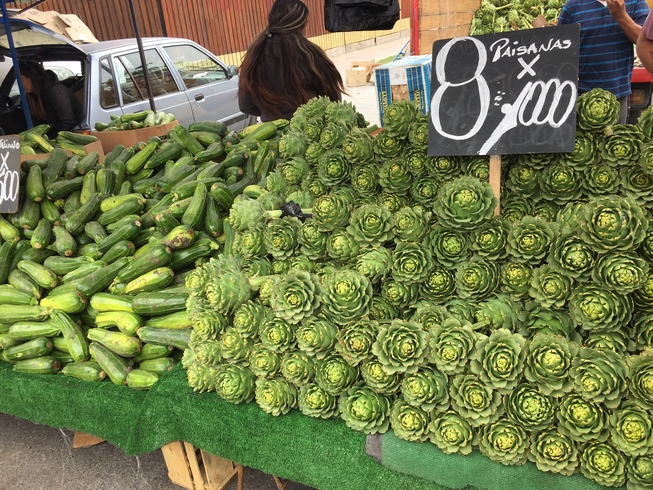precio: (427, 29, 592, 157)
